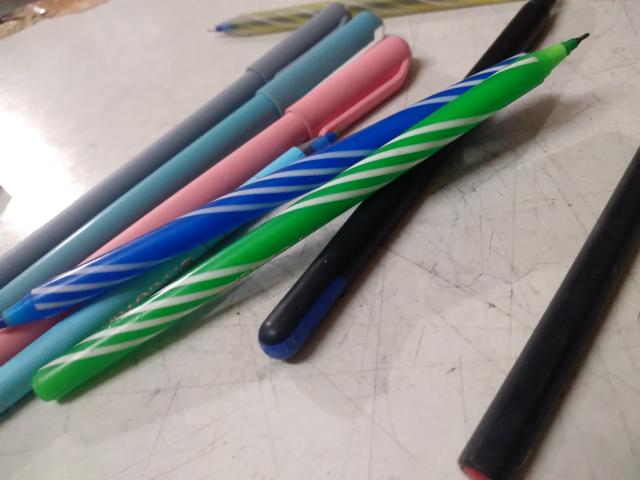PEN: (11, 4, 587, 423), (0, 59, 480, 346), (0, 2, 388, 310), (26, 19, 429, 281), (206, 5, 469, 37)
